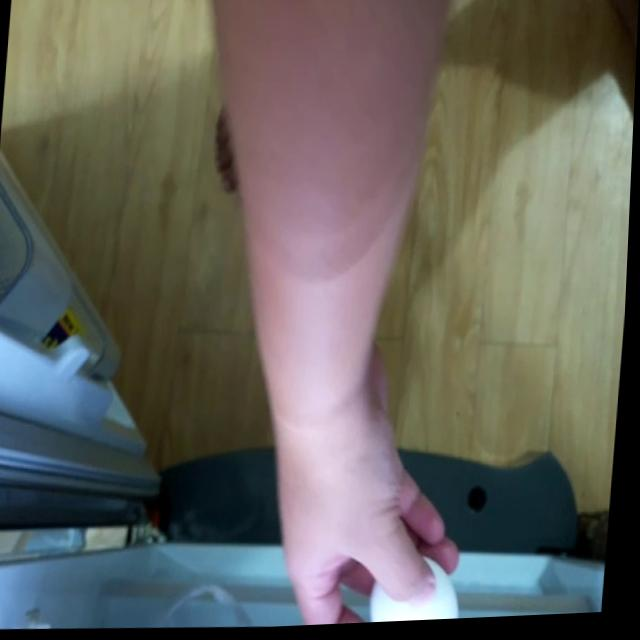egg: (376, 556, 468, 626)
